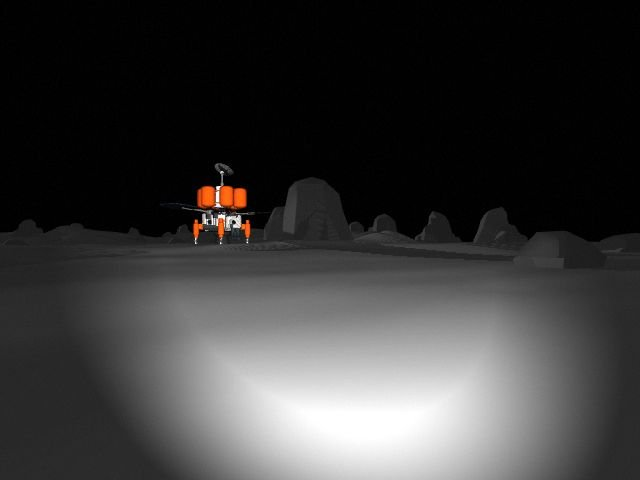homebase: (174, 159, 270, 251)
